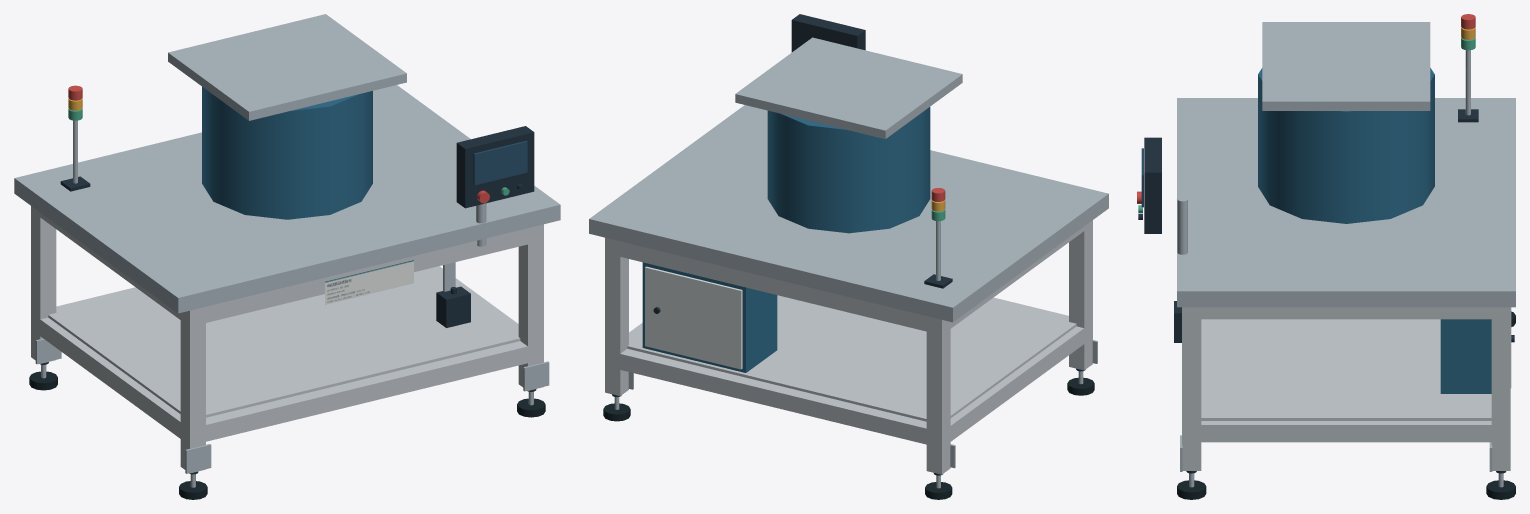
File: vibration-test-cell.glb
The picture shows the model from 3 angles, left to right: view 1: azimuth 30°, elevation 25°; view 2: azimuth 150°, elevation 25°; view 3: azimuth 270°, elevation 25°; orthographic projection. The views are drawn at different scales.
Parts seen in each view (by area): view 1: ClosedMachineBed_28, LowerShelf_29, ShakerBody_48, SpecimenTable_49, SlottedExtrusion_22, SlottedExtrusion_23, SlottedExtrusion_8, SlottedExtrusion_24, ConsoleBack_34, SlottedExtrusion_18, SlottedExtrusion_3, OriginalNameplate_42 (+5 smaller); view 2: ClosedMachineBed_28, LowerShelf_29, ShakerBody_48, SpecimenTable_49, BackDoor_31, SlottedExtrusion_20, SlottedExtrusion_21, SlottedExtrusion_3, Cabinet_30, SlottedExtrusion_13, SlottedExtrusion_24, SlottedExtrusion_8 (+2 smaller); view 3: ClosedMachineBed_28, LowerShelf_29, ShakerBody_48, SpecimenTable_49, SlottedExtrusion_26, SlottedExtrusion_27, Cabinet_30, SlottedExtrusion_18, SlottedExtrusion_13, ConsoleBack_34, ConsoleBracket_33, RubberFoot_10 (+1 smaller).
Boxes of the visible parts, x1=… form: ClosedMachineBed_28: x1=14, y1=85, x2=560, y2=313; LowerShelf_29: x1=48, y1=267, x2=520, y2=417; ShakerBody_48: x1=202, y1=87, x2=372, y2=219; SpecimenTable_49: x1=168, y1=14, x2=406, y2=120; SlottedExtrusion_22: x1=198, y1=341, x2=535, y2=443; SlottedExtrusion_23: x1=198, y1=228, x2=527, y2=324; SlottedExtrusion_8: x1=180, y1=307, x2=205, y2=473; SlottedExtrusion_24: x1=35, y1=317, x2=184, y2=440; ConsoleBack_34: x1=456, y1=126, x2=534, y2=208; SlottedExtrusion_18: x1=518, y1=224, x2=543, y2=390; SlottedExtrusion_3: x1=31, y1=206, x2=56, y2=363; OriginalNameplate_42: x1=325, y1=260, x2=413, y2=304; ClosedMachineBed_28: x1=589, y1=105, x2=1108, y2=322; LowerShelf_29: x1=627, y1=295, x2=1076, y2=421; ShakerBody_48: x1=767, y1=107, x2=930, y2=233; SpecimenTable_49: x1=735, y1=37, x2=962, y2=139; BackDoor_31: x1=645, y1=266, x2=742, y2=369; SlottedExtrusion_20: x1=612, y1=348, x2=934, y2=444; SlottedExtrusion_21: x1=613, y1=240, x2=933, y2=331; SlottedExtrusion_3: x1=926, y1=316, x2=950, y2=474; Cabinet_30: x1=642, y1=262, x2=777, y2=372; SlottedExtrusion_13: x1=605, y1=237, x2=628, y2=395; SlottedExtrusion_24: x1=948, y1=326, x2=1084, y2=441; SlottedExtrusion_8: x1=1069, y1=220, x2=1092, y2=370; ClosedMachineBed_28: x1=1177, y1=98, x2=1515, y2=307; LowerShelf_29: x1=1201, y1=319, x2=1491, y2=420; ShakerBody_48: x1=1258, y1=68, x2=1434, y2=223; SpecimenTable_49: x1=1262, y1=22, x2=1430, y2=110; SlottedExtrusion_26: x1=1192, y1=421, x2=1501, y2=442; SlottedExtrusion_27: x1=1192, y1=307, x2=1501, y2=319; Cabinet_30: x1=1440, y1=319, x2=1491, y2=393; SlottedExtrusion_18: x1=1182, y1=307, x2=1201, y2=470; SlottedExtrusion_13: x1=1491, y1=307, x2=1510, y2=470; ConsoleBack_34: x1=1144, y1=137, x2=1161, y2=233; ConsoleBracket_33: x1=1177, y1=197, x2=1187, y2=254; RubberFoot_10: x1=1486, y1=480, x2=1515, y2=499.
Bounding box in the file's own units: 1.55 × 1.3 × 1.29.
11 materials, 1 textured.
